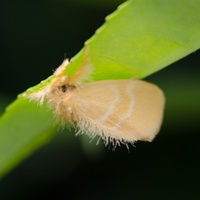insect: (22, 60, 164, 150)
